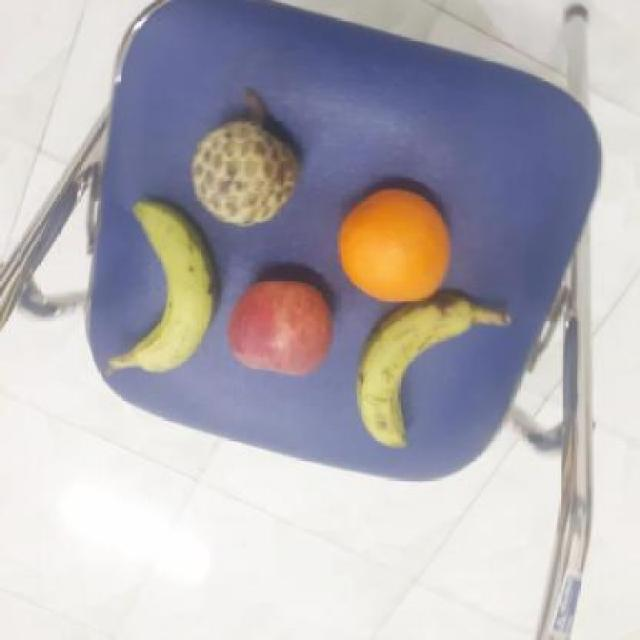apple: (228, 278, 335, 380)
banana: (348, 298, 486, 453), (122, 198, 218, 380)
oren: (338, 177, 458, 305)
sugar apple: (185, 118, 304, 227)
